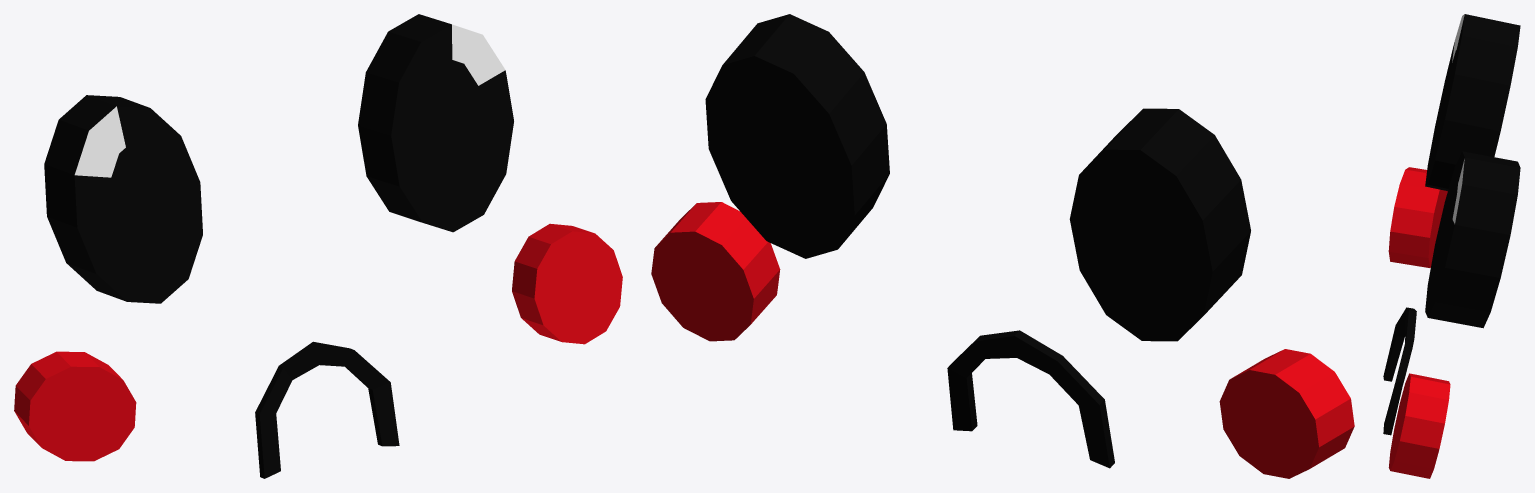
The model's file is CaritaTriste.fbx.
3 views of the same model, side by side, from view 1: azimuth 30°, elevation 25°; view 2: azimuth 150°, elevation 25°; view 3: azimuth 270°, elevation 25° (orthographic). The views are drawn at different scales.
Parts seen in each view (by area): view 1: MojaCaritaTriste; view 2: MojaCaritaTriste; view 3: MojaCaritaTriste.
Part boxes in pixels (x1,y1,x2,y2): MojaCaritaTriste: (14, 14, 622, 478); MojaCaritaTriste: (651, 14, 1354, 478); MojaCaritaTriste: (1383, 14, 1520, 478).
Bounding box in the file's own units: 72.24 × 42.82 × 16.62.
